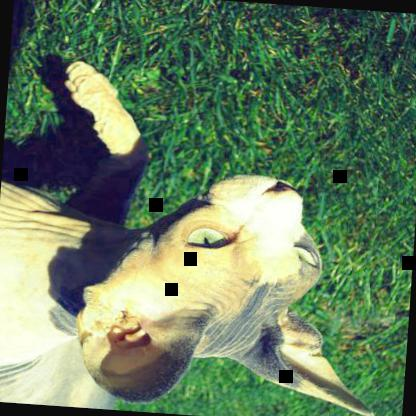cat: (0, 57, 401, 415)
